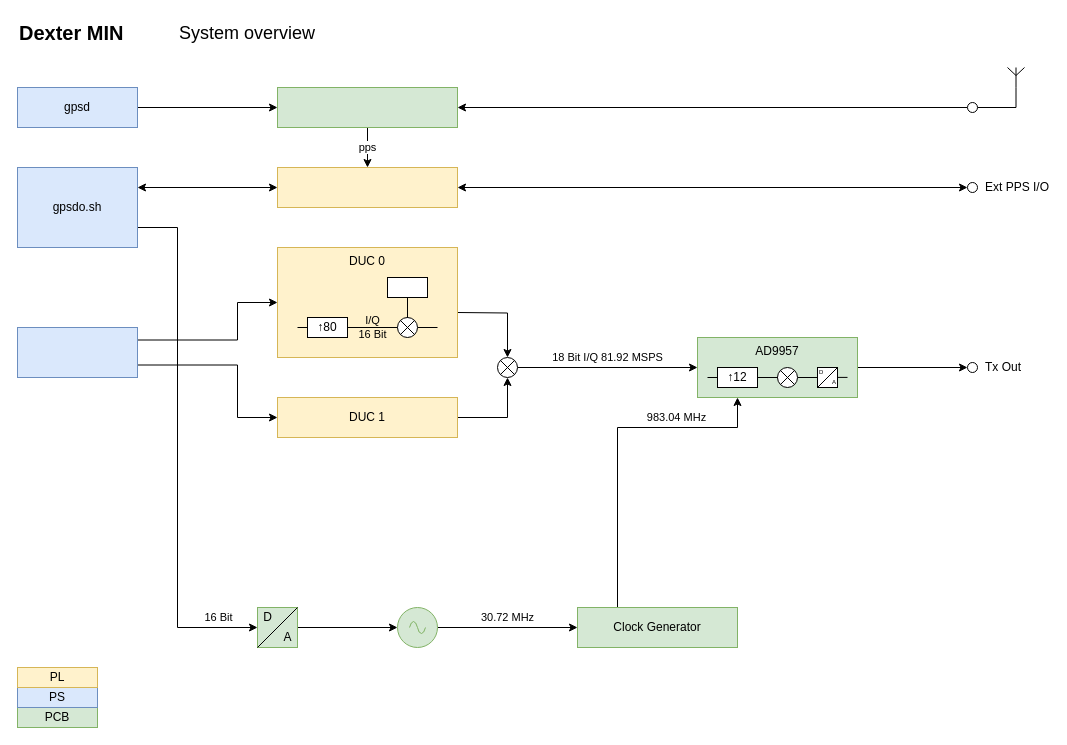
This 1067x745 diagram has some shape labels left out. Each missing label, with the centre of its shape:
"DDS" goes at (x=407, y=287).
"GPS Module" goes at (x=367, y=107).
"iiod" goes at (x=77, y=352).
"PPS Core" goes at (x=367, y=187).
"VCOCXO 30.72 MHz" goes at (x=417, y=627).
